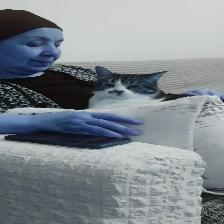kedo: (90, 66, 167, 104)
